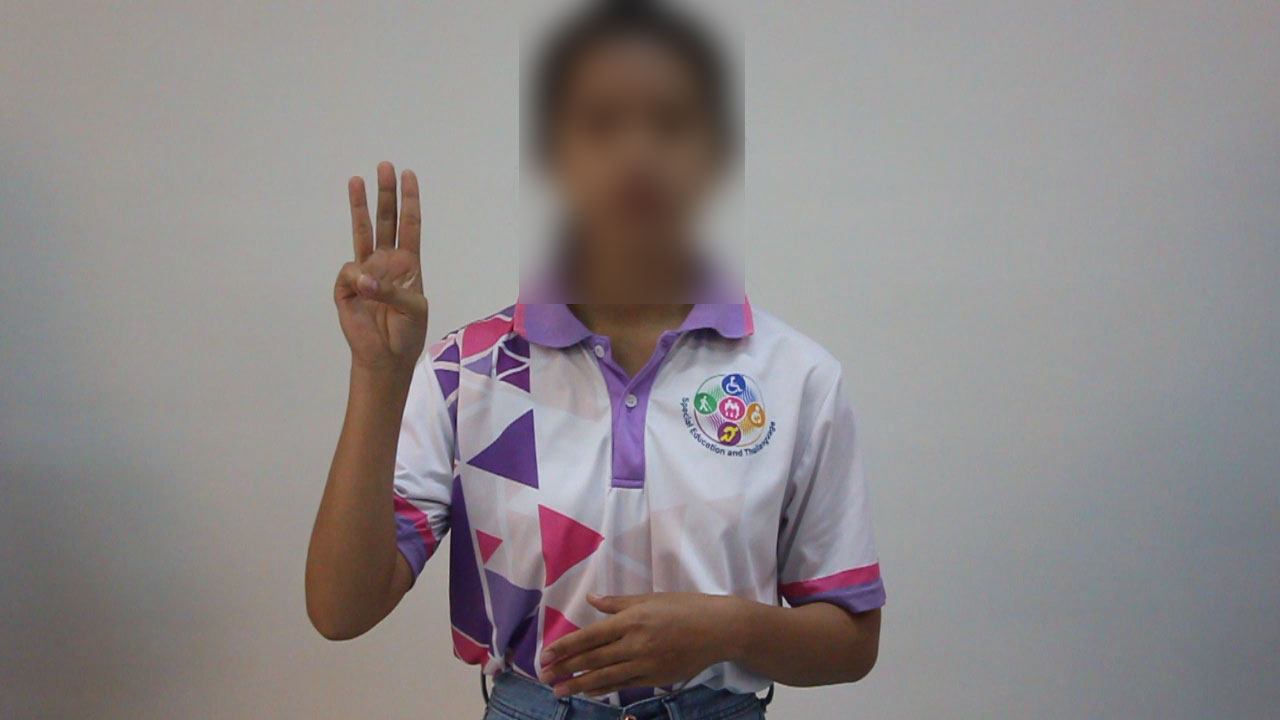wor: (324, 155, 440, 383)
